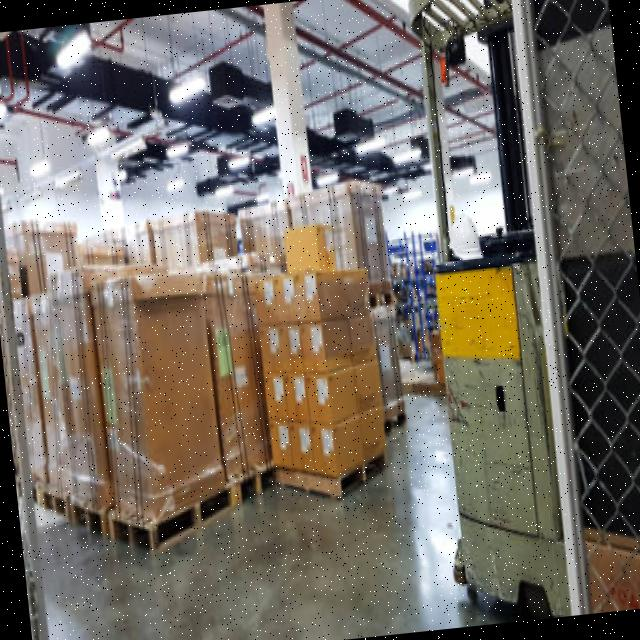Wooden-Pallets: (106, 473, 238, 565), (274, 445, 390, 505), (68, 488, 103, 549)
